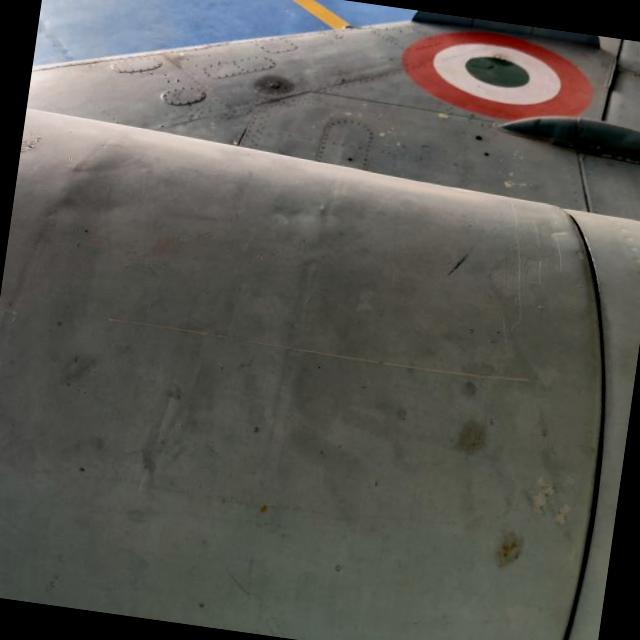scratch: (93, 297, 544, 406)
